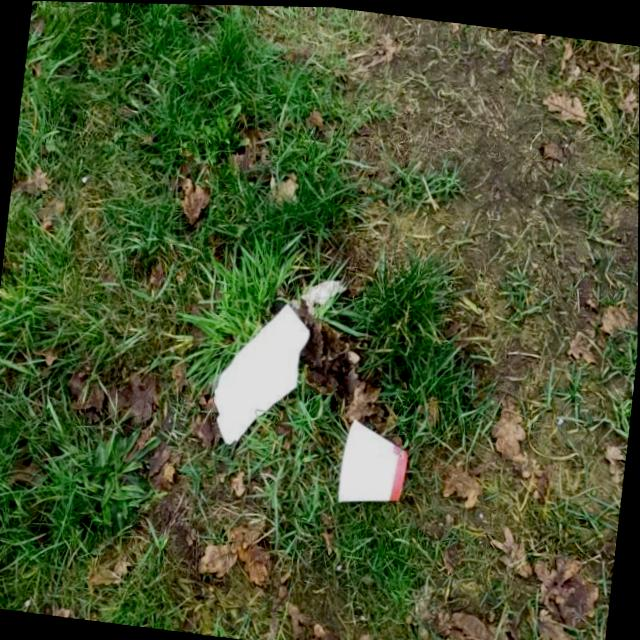Cup: (334, 413, 413, 511)
